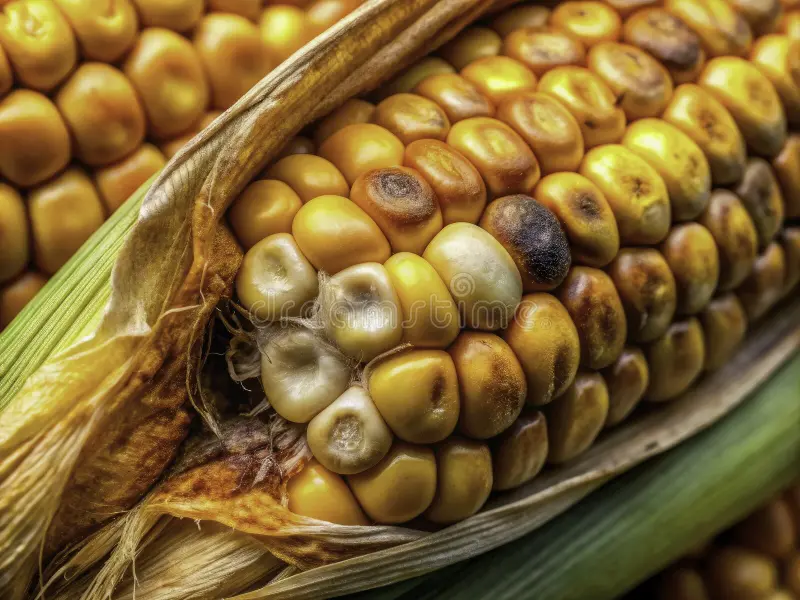rotten corn: (187, 26, 800, 544)
